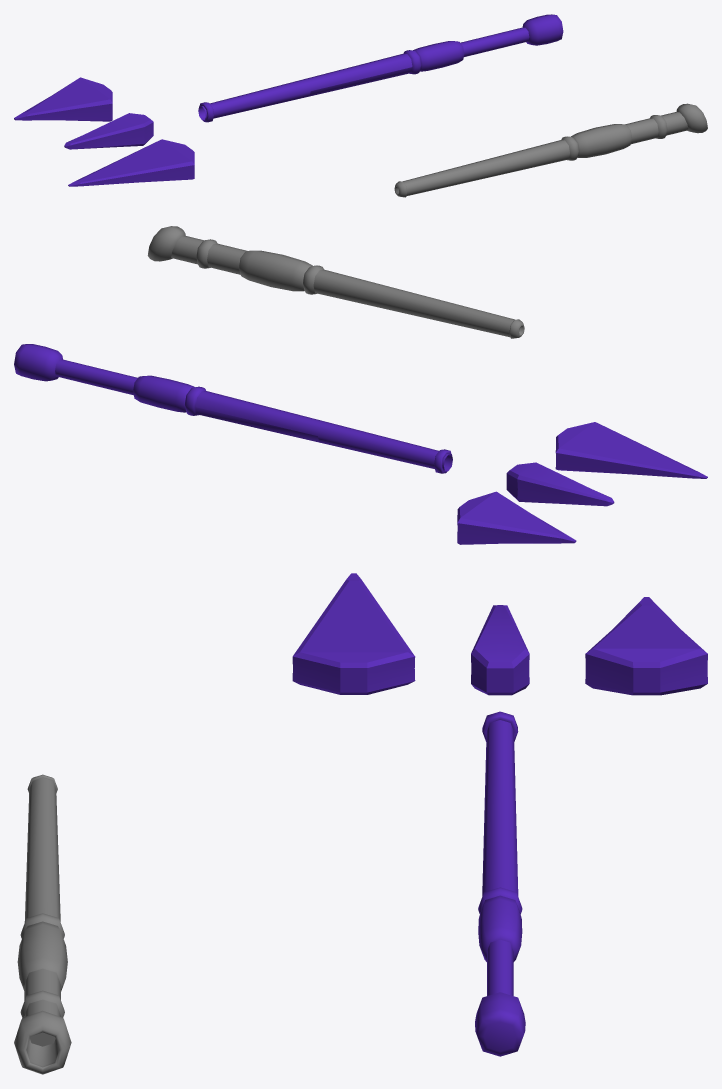
File: WeaponsE_lp.fbx
The picture shows the model from 3 angles, top to bottom: view 1: azimuth 30°, elevation 25°; view 2: azimuth 150°, elevation 25°; view 3: azimuth 270°, elevation 25°; orthographic projection. The views are drawn at different scales.
Parts seen in each view (by area): view 1: B_Spear, blowgun_lp, Punta02, Punta03, Punta01; view 2: B_Spear, blowgun_lp, Punta02, Punta03, Punta01; view 3: B_Spear, blowgun_lp, Punta02, Punta03, Punta01.
Part boxes in pixels (x1=…): B_Spear: x1=198, y1=14, x2=563, y2=122; blowgun_lp: x1=394, y1=103, x2=707, y2=197; Punta02: x1=68, y1=139, x2=194, y2=186; Punta03: x1=14, y1=77, x2=112, y2=121; Punta01: x1=64, y1=113, x2=153, y2=149; B_Spear: x1=14, y1=344, x2=452, y2=473; blowgun_lp: x1=147, y1=226, x2=524, y2=338; Punta02: x1=555, y1=422, x2=707, y2=478; Punta03: x1=457, y1=491, x2=576, y2=544; Punta01: x1=506, y1=462, x2=614, y2=506; B_Spear: x1=475, y1=711, x2=525, y2=1056; blowgun_lp: x1=14, y1=774, x2=71, y2=1074; Punta02: x1=292, y1=573, x2=415, y2=694; Punta03: x1=585, y1=597, x2=707, y2=695; Punta01: x1=471, y1=605, x2=529, y2=695.
Size of the model in its own units: 619 by 31.47 by 379.
